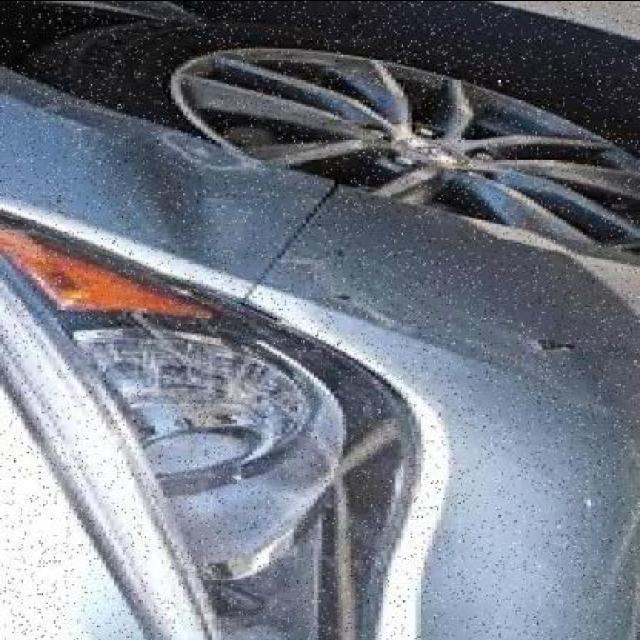front-bumper-dent: (240, 197, 636, 640)
